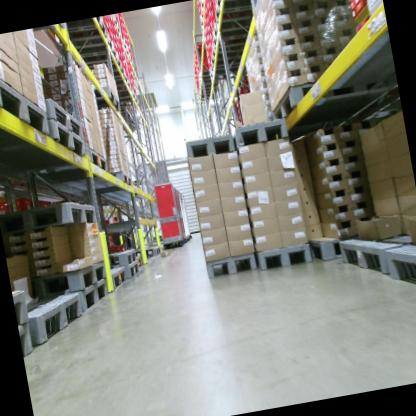pallet: (267, 67, 374, 124), (0, 113, 88, 175), (0, 196, 99, 243), (334, 226, 410, 285), (20, 138, 110, 187), (0, 64, 54, 144), (23, 287, 90, 351), (29, 257, 111, 301), (231, 112, 294, 153), (179, 126, 239, 169), (254, 234, 314, 274), (41, 89, 84, 142), (201, 244, 259, 283), (69, 277, 117, 324), (65, 32, 121, 70), (303, 225, 349, 270), (76, 163, 134, 197), (384, 239, 416, 300), (210, 13, 260, 46), (64, 16, 111, 50), (91, 86, 141, 116), (208, 54, 254, 85), (207, 38, 251, 70), (91, 69, 134, 100), (79, 56, 128, 83), (211, 0, 259, 24), (102, 261, 128, 296), (12, 287, 32, 331), (18, 319, 39, 358), (106, 247, 139, 271), (134, 238, 162, 258), (121, 260, 144, 282)
small_load_carrier: (8, 193, 35, 212), (110, 241, 129, 253), (0, 197, 11, 216)
